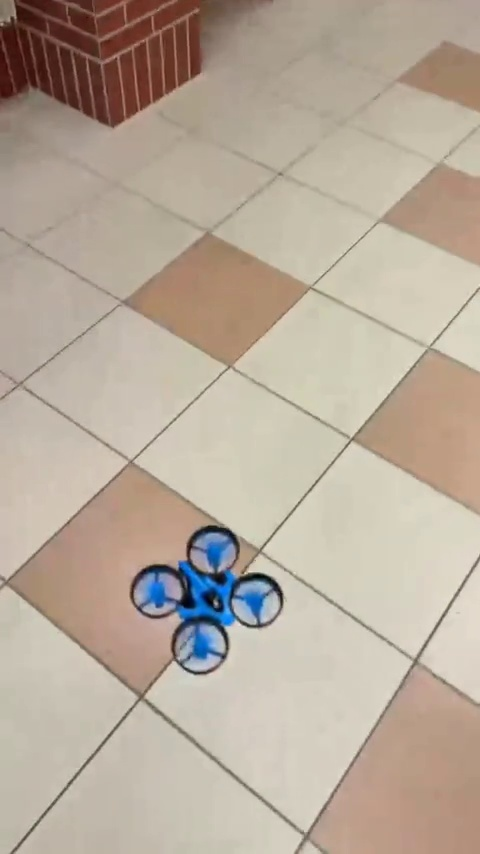drone: (131, 527, 280, 671)
